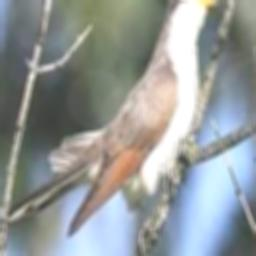Cuckoo: (49, 0, 218, 237)
